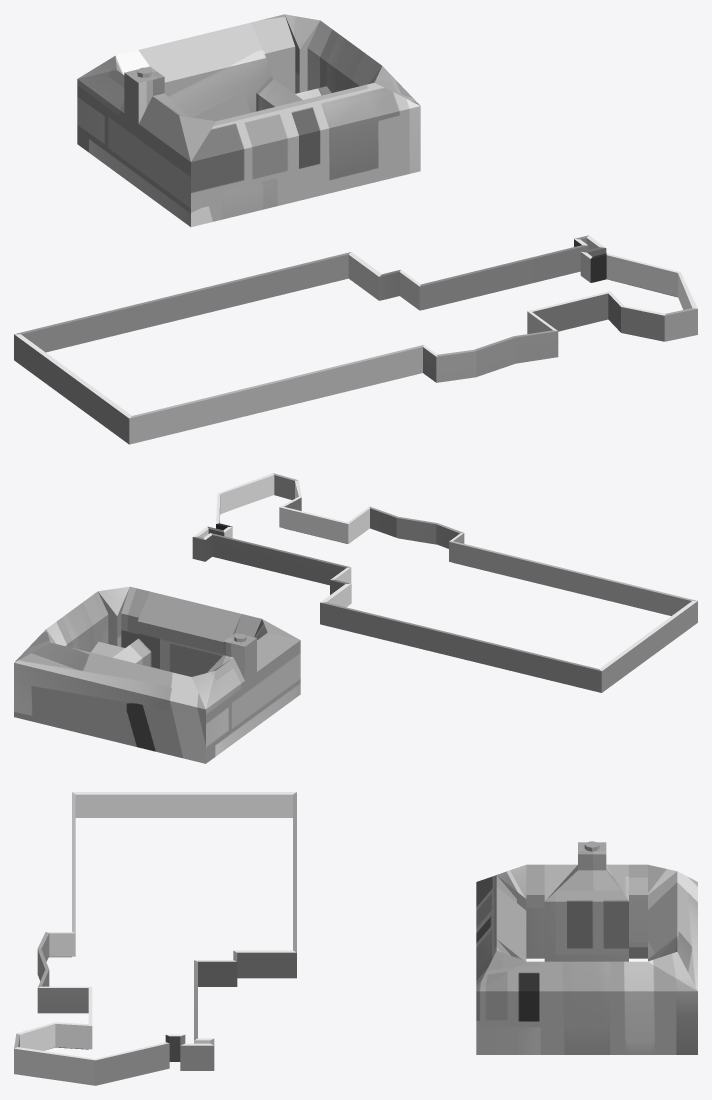
Rendered from grashofEtage1.dae.
The picture shows the model from 3 angles, top to bottom: view 1: azimuth 30°, elevation 25°; view 2: azimuth 150°, elevation 25°; view 3: azimuth 270°, elevation 25°; orthographic projection. The views are drawn at different scales.
Parts seen in each view (by area): view 1: Mesh_003, Mesh_005; view 2: Mesh_003, Mesh_005; view 3: Mesh_003, Mesh_005.
Boxes of the visible parts, x1,y1,x2,y2 form: Mesh_003: (77,14,420,227); Mesh_005: (14,235,697,444); Mesh_003: (14,586,300,763); Mesh_005: (192,473,697,692); Mesh_003: (476,841,697,1054); Mesh_005: (14,792,296,1085).
Bounding box in the file's own units: 49.27 × 53.08 × 9.19.
